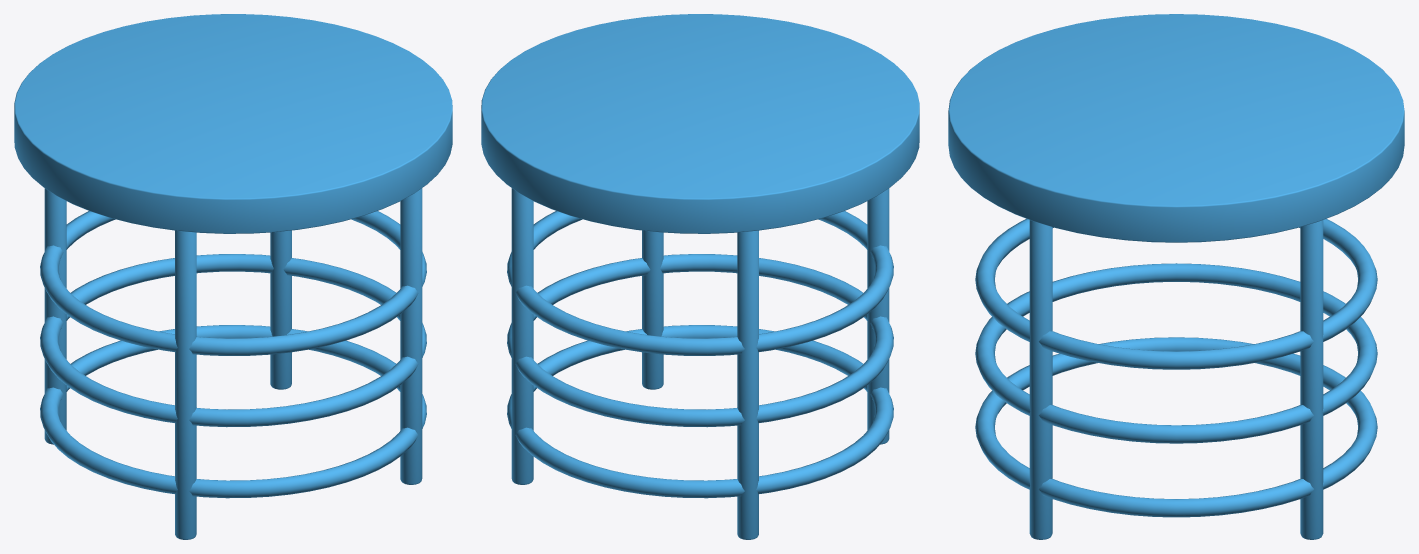
File: mesa_lateral_redonda_aros_azul.glb
The picture shows the model from 3 angles, left to right: view 1: azimuth 30°, elevation 25°; view 2: azimuth 150°, elevation 25°; view 3: azimuth 270°, elevation 25°; orthographic projection. The views are drawn at different scales.
Visible parts, largest first — view 1: mesa_lateral_redonda_aros_azul; view 2: mesa_lateral_redonda_aros_azul; view 3: mesa_lateral_redonda_aros_azul.
Boxes of the visible parts, x1,y1,x2,y2 form: mesa_lateral_redonda_aros_azul: (14, 14, 452, 539); mesa_lateral_redonda_aros_azul: (481, 14, 919, 539); mesa_lateral_redonda_aros_azul: (948, 14, 1404, 539).
Size of the model in its own units: 0.56 by 0.5 by 0.56.
1 material, 1 textured.
